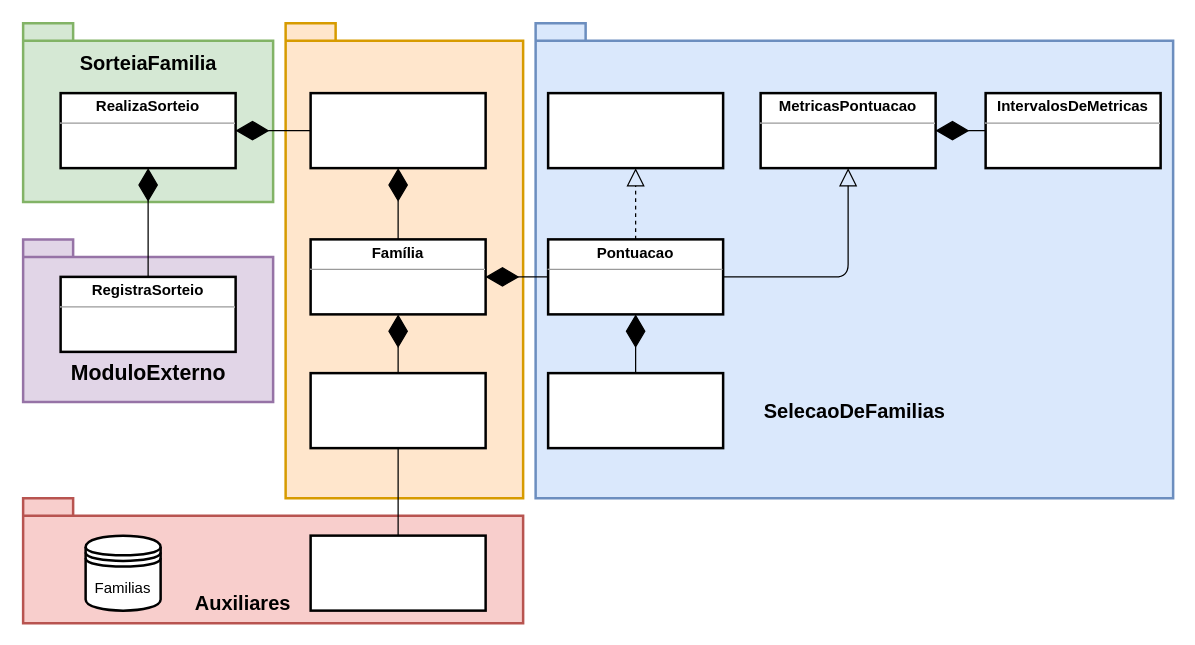
Some shapes in this 1195 by 645 pixel diagram are drawn without their labels. The shapes that lost their labels are listed below. From the top down, each one's box as (x1, y1, x2, y2) in pixels, then its label:
(309, 91, 486, 169): CriaFamílias
(546, 91, 724, 169): <Interface> Criterios
(284, 21, 524, 499): ConstroiFamilias
(309, 371, 486, 449): Integrante
(546, 371, 724, 449): CriteriosAtendidos
(309, 534, 486, 611): <Enum> TipoIntegrante
